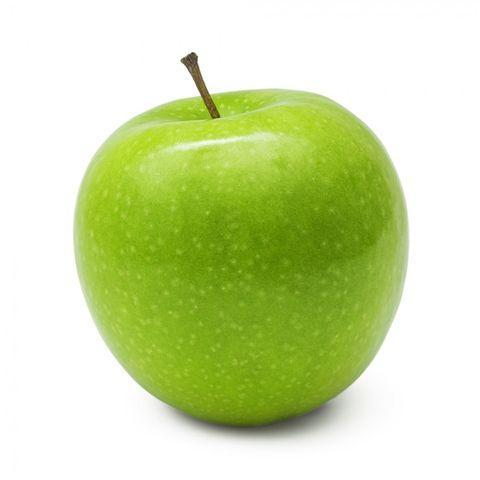apple: (74, 77, 410, 428)
